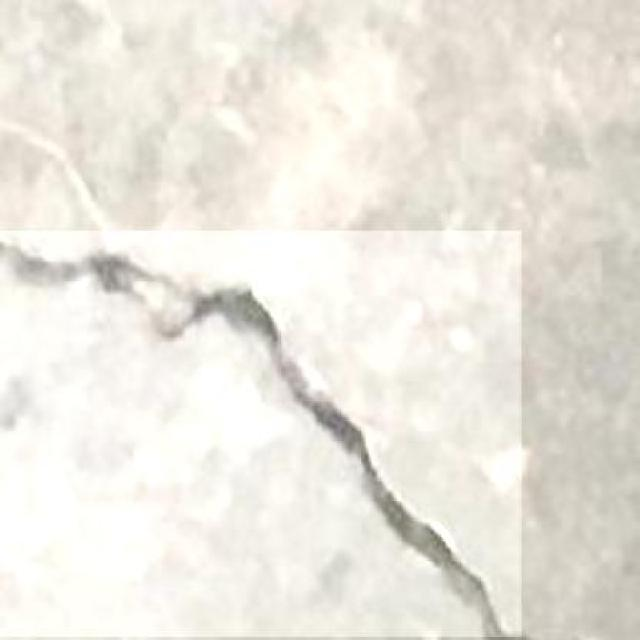Crack: (13, 237, 507, 636)
